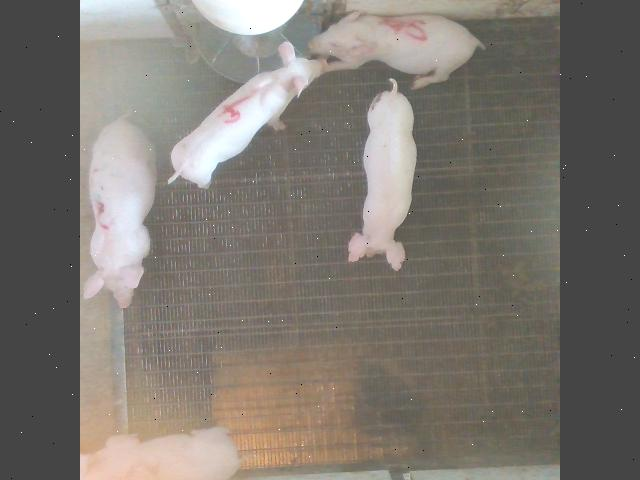pig-2: (81, 426, 242, 480)
pig-3: (84, 116, 155, 306)
pig-4: (169, 41, 326, 186)
pig-5: (309, 11, 484, 89)
